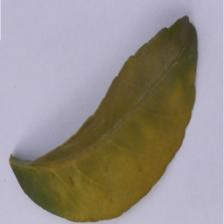greening: (34, 54, 199, 220)
